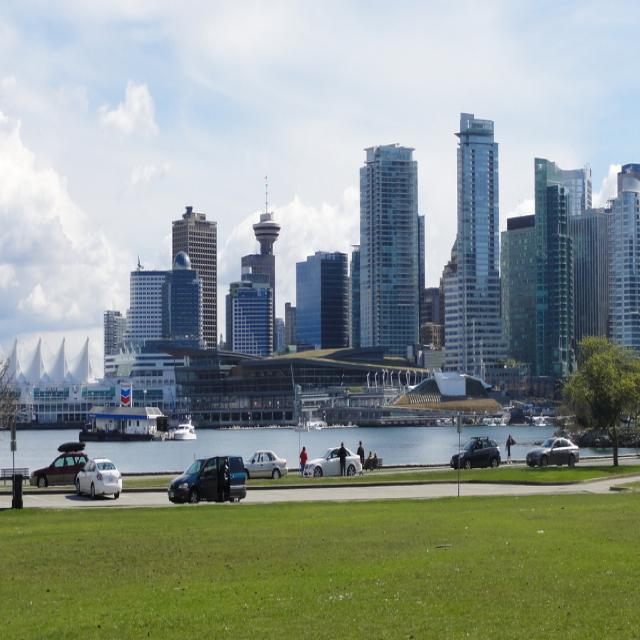car: (74, 455, 120, 496)
